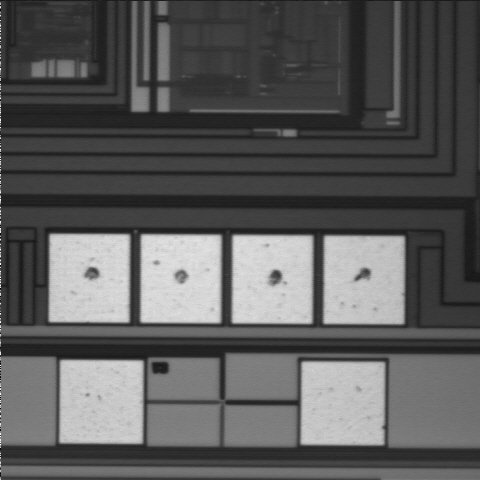pad: (49, 234, 129, 322), (141, 235, 221, 323), (324, 236, 404, 324), (60, 360, 143, 443), (233, 236, 312, 323), (301, 362, 384, 444)
